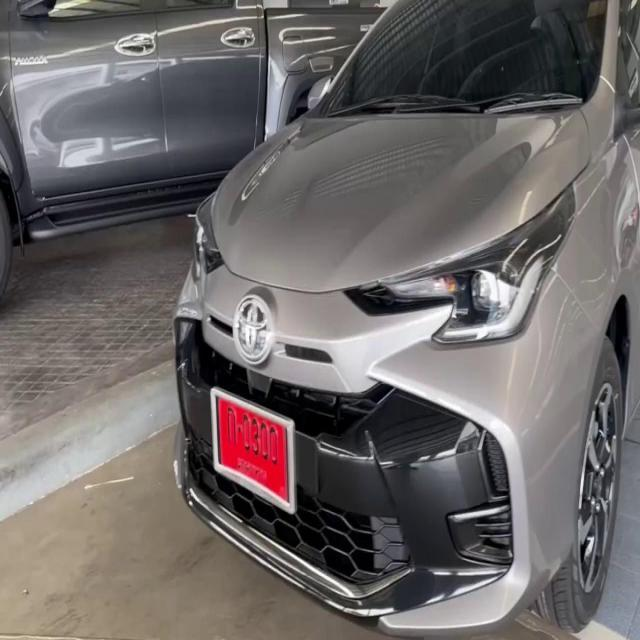Hatchback: (174, 0, 640, 636)
